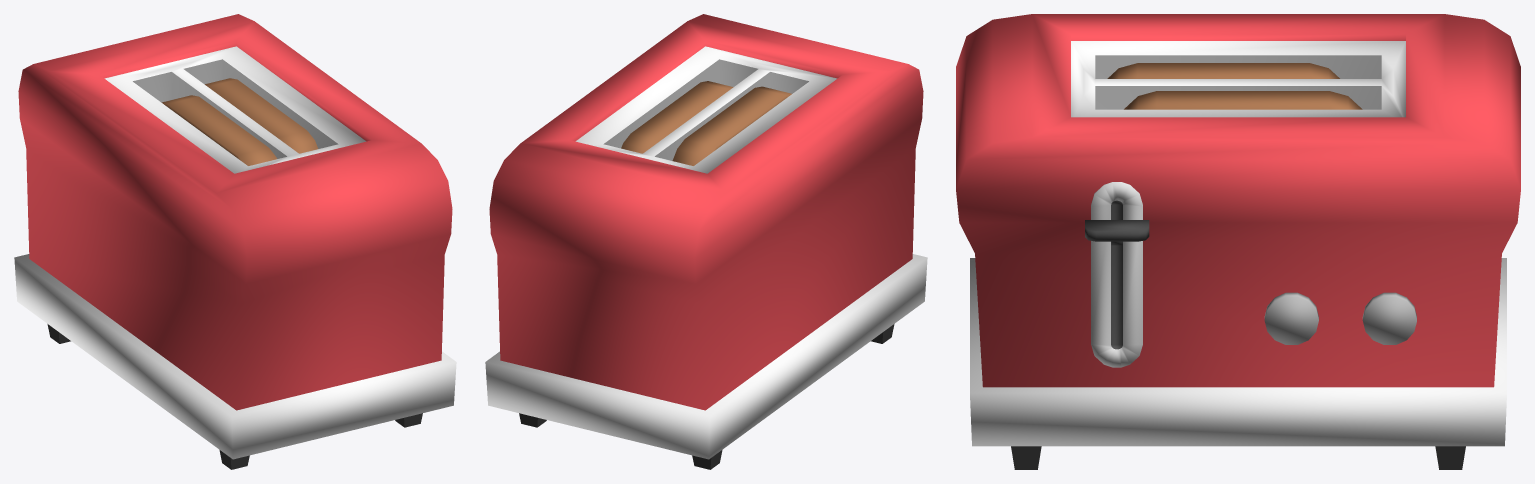
File: тостерник.fbx
3 renders of one model, left to right at view 1: azimuth 30°, elevation 25°; view 2: azimuth 150°, elevation 25°; view 3: azimuth 270°, elevation 25°, orthographic. The views are drawn at different scales.
Visible parts, largest first — view 1: Toaster.B; view 2: Toaster.B; view 3: Toaster.B.
Part boxes in pixels (bbox=[...]): Toaster.B: bbox=[14, 14, 456, 469]; Toaster.B: bbox=[485, 14, 927, 469]; Toaster.B: bbox=[956, 14, 1520, 469].
Size of the model in its own units: 32.77 by 36.15 by 54.89.
Materials: 1 (1 with a texture image).
